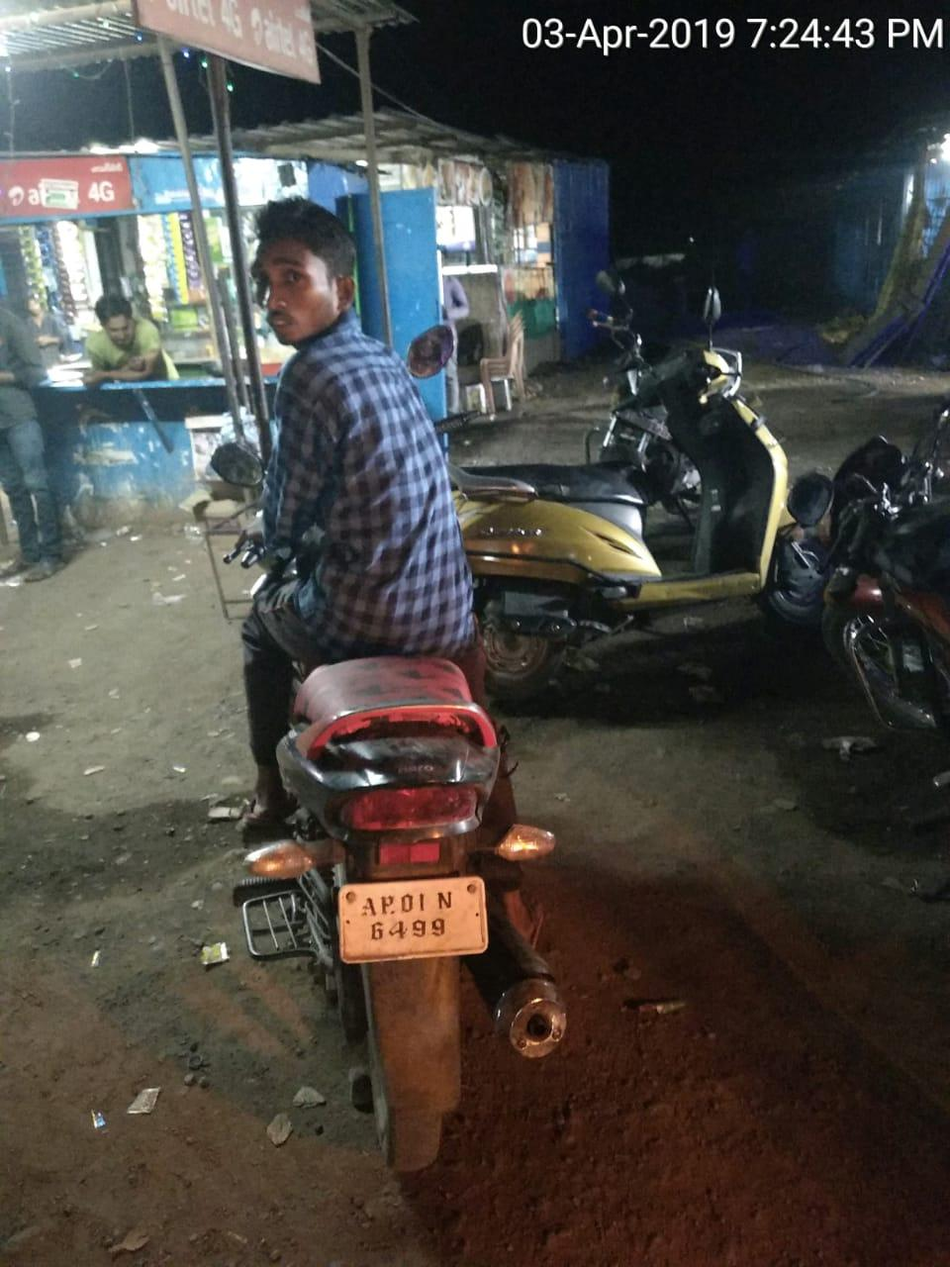plate: (322, 858, 513, 986)
